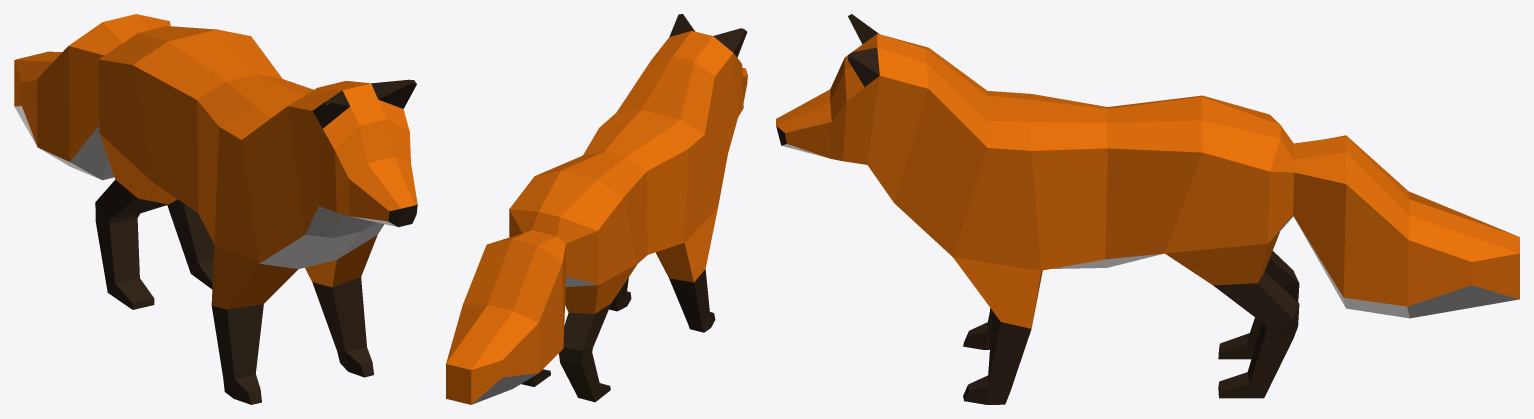
File: Fox.fbx
3 views of the same model, side by side, from view 1: azimuth 30°, elevation 25°; view 2: azimuth 150°, elevation 25°; view 3: azimuth 270°, elevation 25° (orthographic). The views are drawn at different scales.
Visible parts, largest first — view 1: fox; view 2: fox; view 3: fox.
Boxes of the visible parts, left/top/right/bottom form: fox: left=14, top=14, right=417, bottom=404; fox: left=446, top=14, right=747, bottom=404; fox: left=776, top=14, right=1519, bottom=404.
Bounding box in the file's own units: 49 × 120 × 238.
